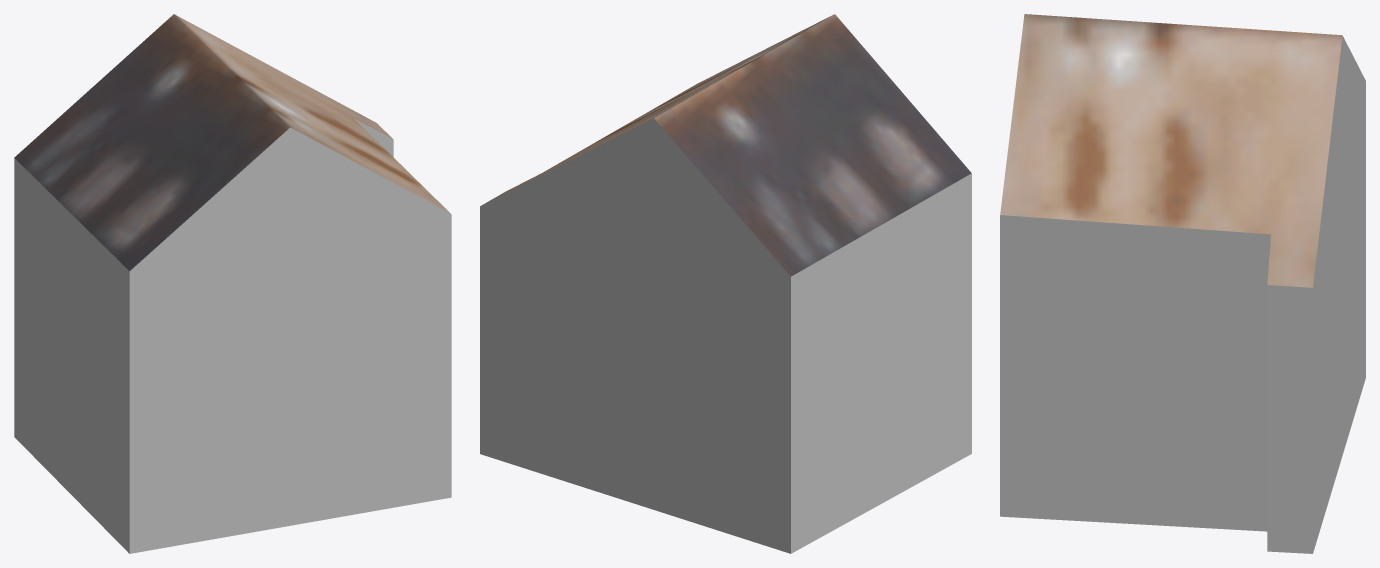
File: DEBW_0010007Tx5b.gltf
3 views of the same model, side by side, from view 1: azimuth 30°, elevation 25°; view 2: azimuth 150°, elevation 25°; view 3: azimuth 270°, elevation 25° (orthographic). The views are drawn at different scales.
Visible parts, largest first — view 1: Z_UP; view 2: Z_UP; view 3: Z_UP.
Boxes of the visible parts, x1,y1,x2,y2 form: Z_UP: (14, 14, 451, 553); Z_UP: (480, 14, 971, 553); Z_UP: (1000, 14, 1365, 553).
Bounding box in the file's own units: 11.23 × 11.52 × 8.99.
Materials: 2 (1 with a texture image).
